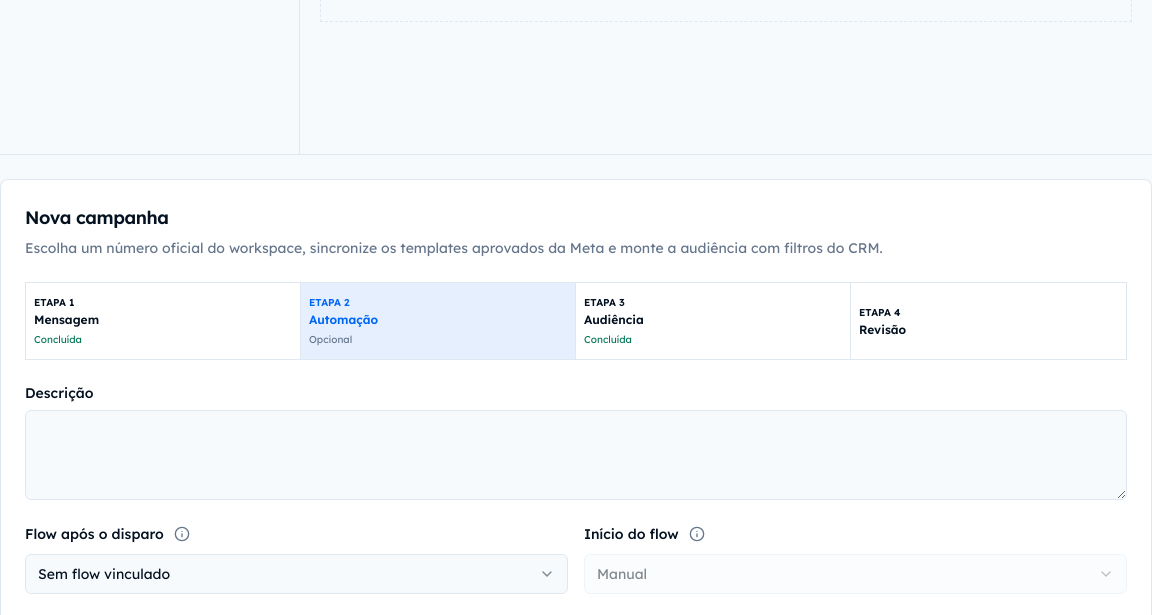
Campaigns: seletor de template com badges de categoria e quality › mostra um campo por variável com exemplos, ignora templates não aprovados e envia arrays
The width and height of the screenshot is (1152, 615).
Earlier steps of the test are not shown.
Later steps or results of the test are not shown.
(page scrolled)
Click the button "Etapa 4 Revisão".
click(877, 312)  # box [851,283,1126,359]
(page scrolled)
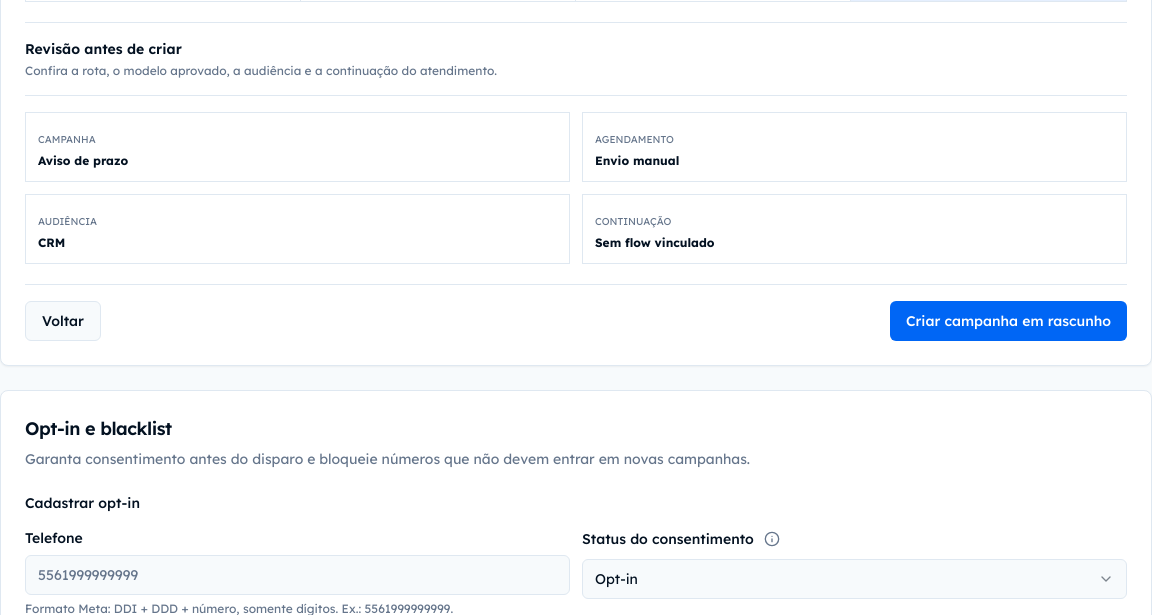
Expected: the text "CRM" is shown, [38,235,65,250]
